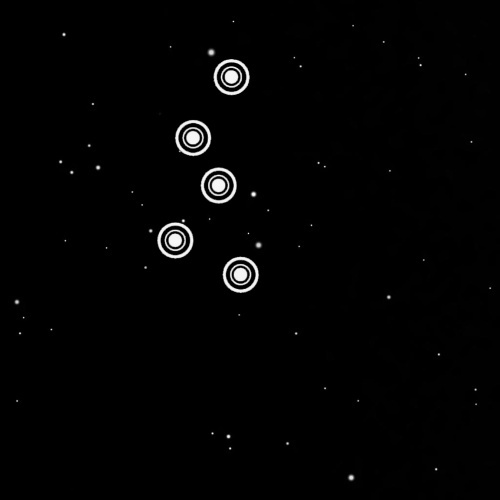cassiopeia: (146, 42, 268, 304)
